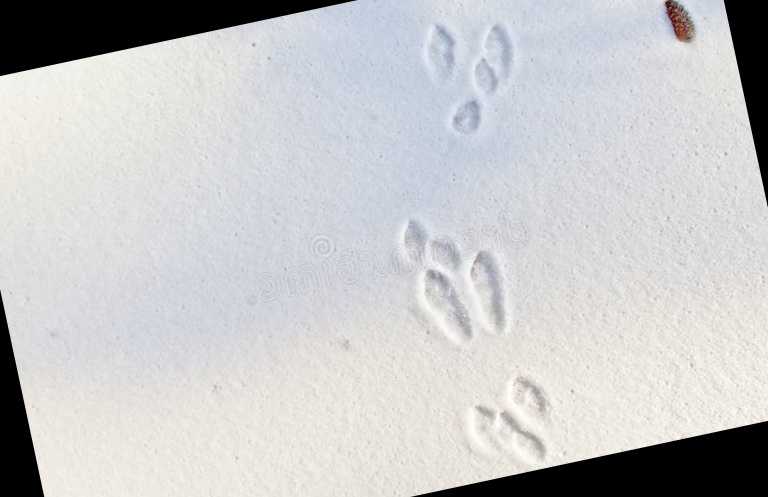rabbit: (374, 1, 558, 164)
